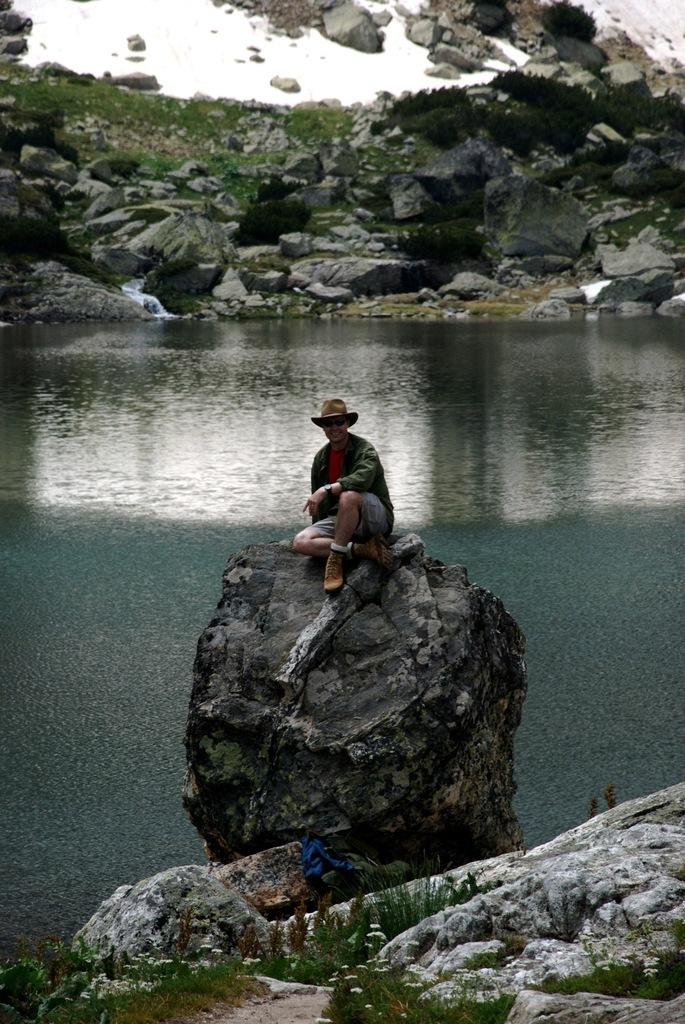Hat: (312, 400, 357, 424)
